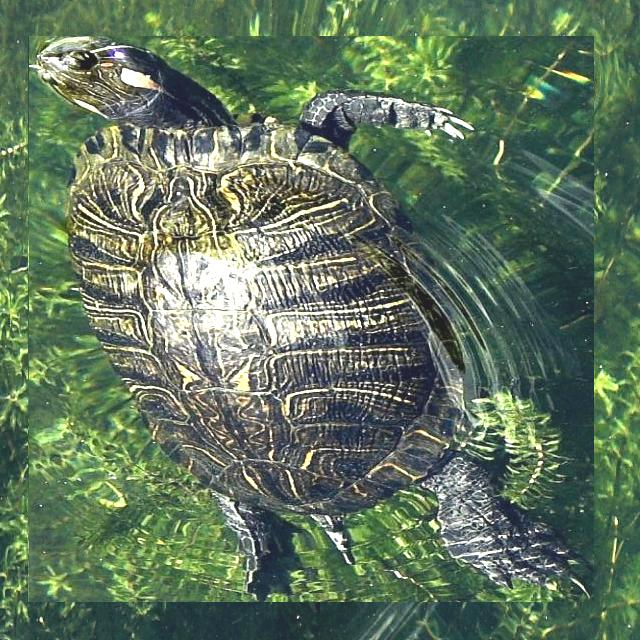Sea turtle: (28, 36, 594, 602)
